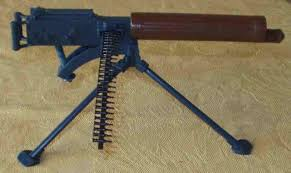gun: (9, 5, 284, 166)
